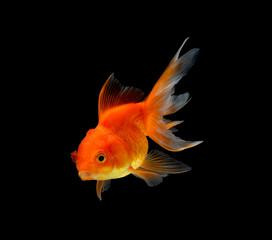goldfish: (67, 88, 206, 197)
